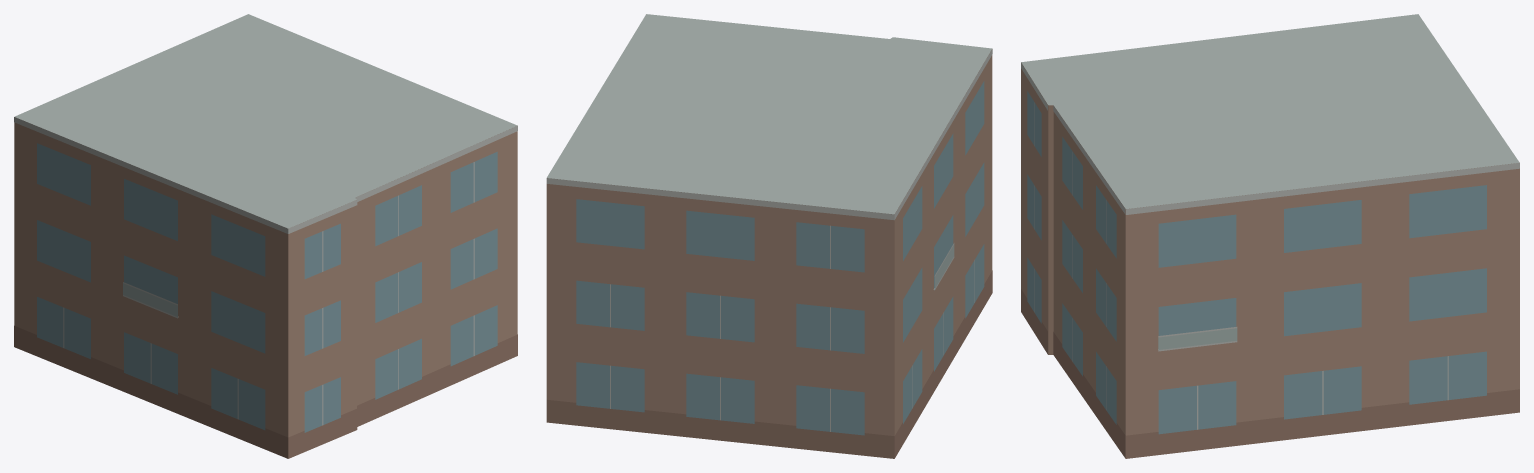
The model's file is survey-upis-32510597.glb.
3 renders of one model, left to right at view 1: azimuth 30°, elevation 25°; view 2: azimuth 150°, elevation 25°; view 3: azimuth 270°, elevation 25°, orthographic. The views are drawn at different scales.
Visible parts, largest first — view 1: survey-upis-32510597.tmp; view 2: survey-upis-32510597.tmp; view 3: survey-upis-32510597.tmp.
Boxes of the visible parts, x1,y1,x2,y2 form: survey-upis-32510597.tmp: [14, 14, 517, 458]; survey-upis-32510597.tmp: [546, 14, 992, 458]; survey-upis-32510597.tmp: [1021, 14, 1519, 458].
Size of the model in its own units: 17.1 by 10.2 by 18.47.
